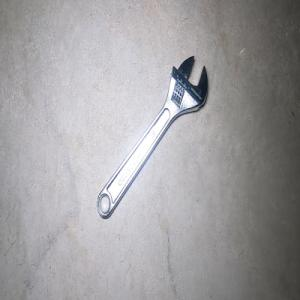Wrench: (96, 55, 207, 218)
